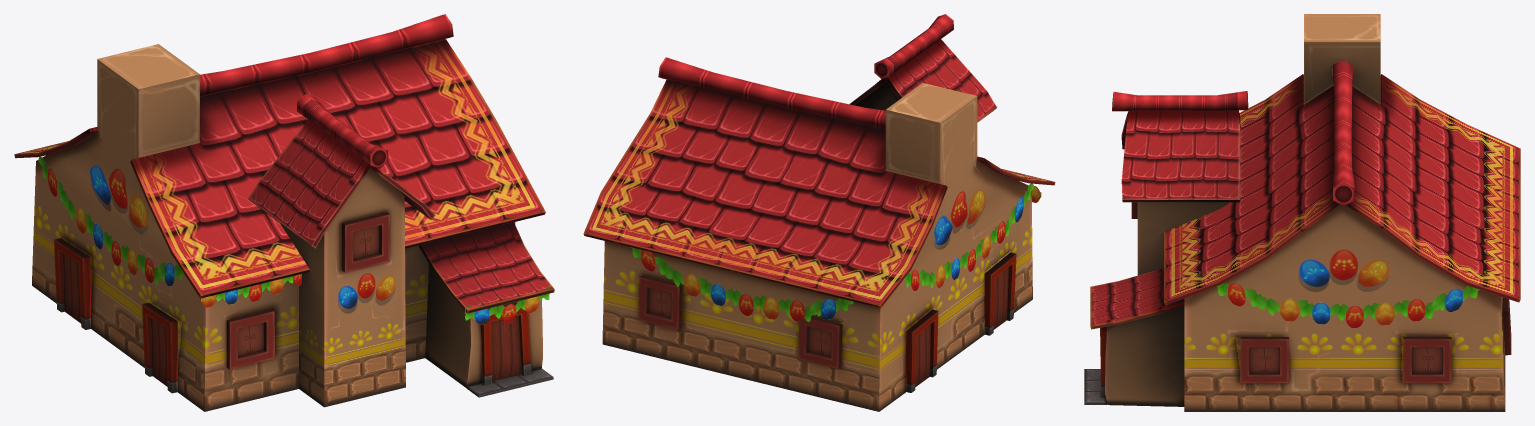
The model's file is House_07_F.FBX.
The picture shows the model from 3 angles, left to right: view 1: azimuth 30°, elevation 25°; view 2: azimuth 150°, elevation 25°; view 3: azimuth 270°, elevation 25°; orthographic projection. The views are drawn at different scales.
Visible parts, largest first — view 1: House_07_F, Plane762, Object719, Object720; view 2: House_07_F, Plane762; view 3: House_07_F, Plane762.
Part boxes in pixels (x1,y1,x2,y2): House_07_F: (14, 14, 554, 411); Plane762: (38, 156, 183, 286); Object719: (201, 274, 301, 307); Object720: (465, 286, 549, 324); House_07_F: (583, 14, 1055, 411); Plane762: (630, 183, 1033, 321); House_07_F: (1084, 14, 1520, 411); Plane762: (1216, 283, 1479, 328).
Bounding box in the file's own units: 2.04 × 1.54 × 2.37.
